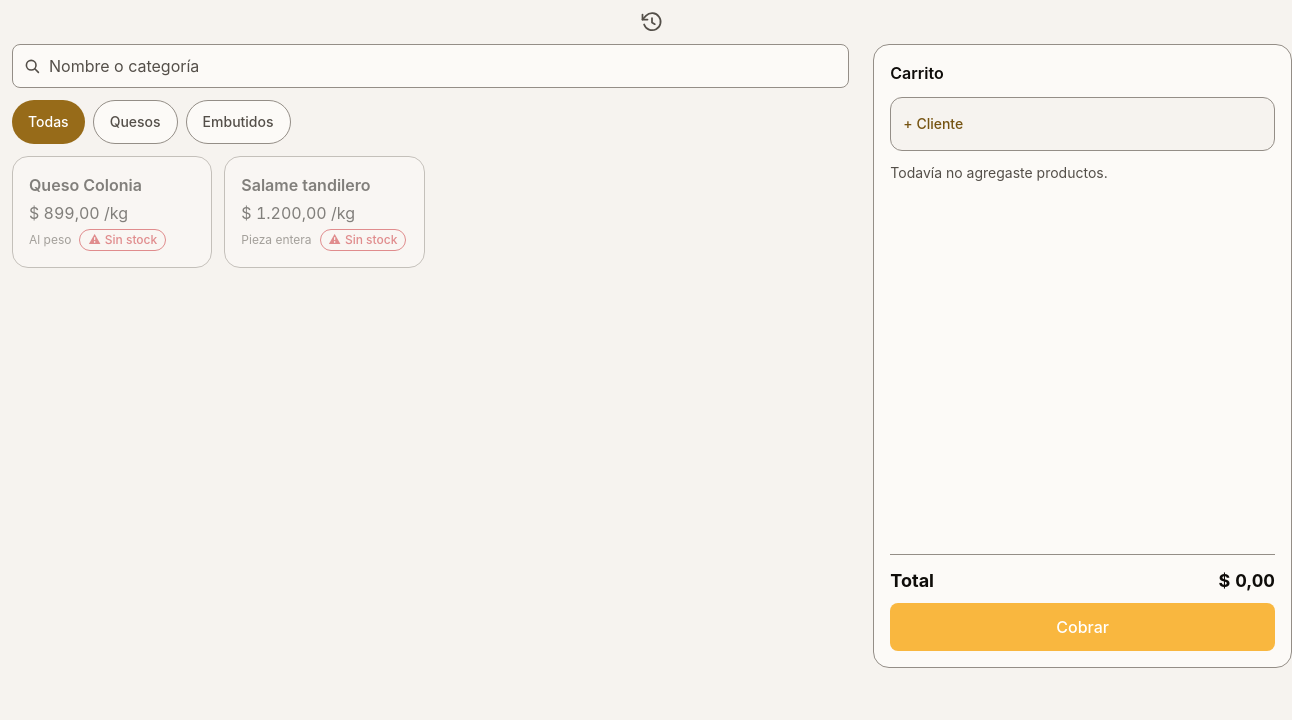
Test: Venta - chips de filtro por categoría (docs/06-ui-ux.md §3, tarea UI-3d) › con vocabulario de categorías, filtra la grilla al elegir una
The width and height of the screenshot is (1292, 720).
Click the button "Quesos" at (135, 122), box [93,100,178,144]
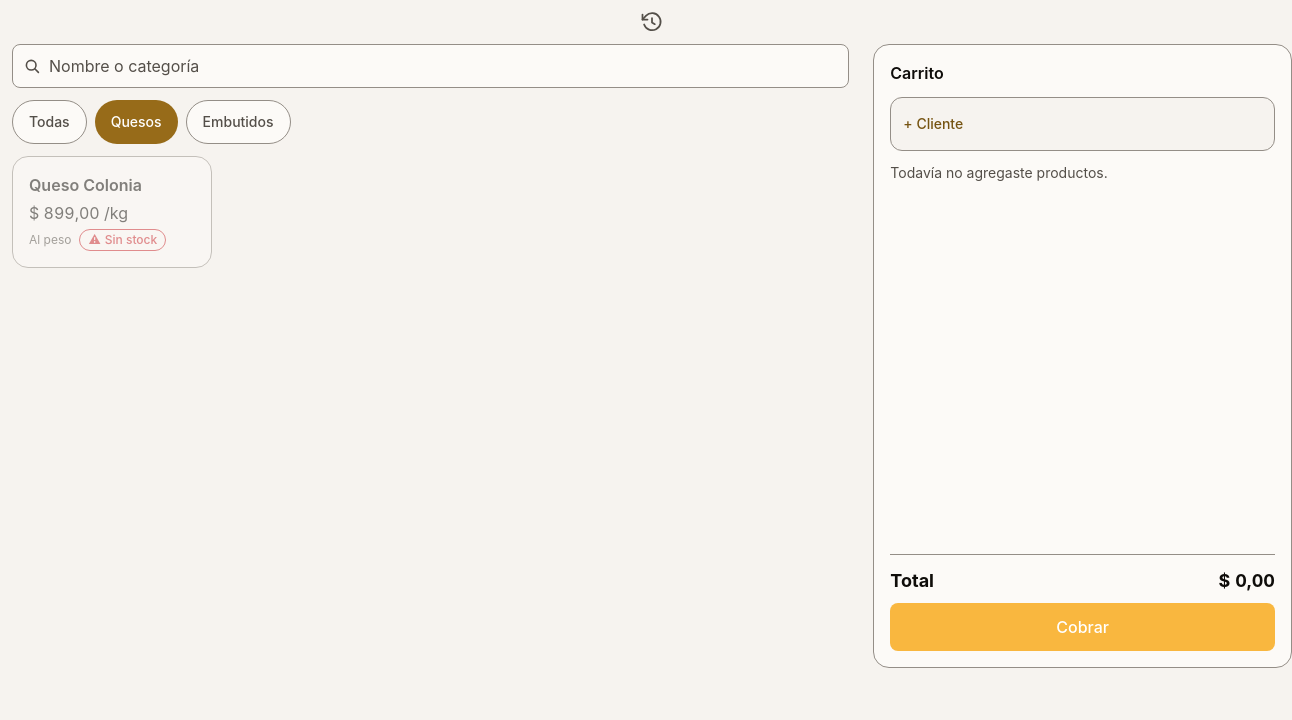
Check: the text "Queso Colonia" is shown, box [29,173,142,197]
Check: the button "Salame tandilero" is gone
